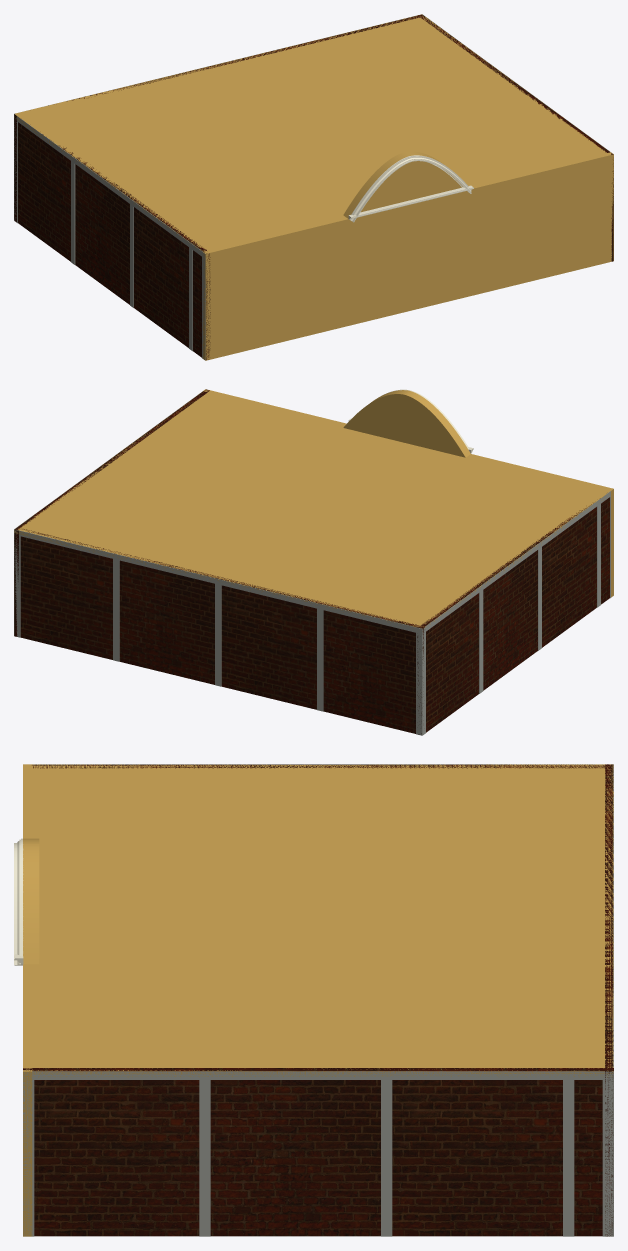
File: building.glb
3 views of the same model, one above another, from view 1: azimuth 30°, elevation 25°; view 2: azimuth 150°, elevation 25°; view 3: azimuth 270°, elevation 25° (orthographic). The views are drawn at different scales.
Visible parts, largest first — view 1: roof/house:0/roof_slab#0001, house:0/edge0/z0/house:0/edge0/z0/wall_0_0, house:0/edge3/z0/house:0/edge3/z0/wall_0_0, crown/coronamiento/crown_body#0001, house:0/edge2/z0/house:0/edge2/z0/wall_0_0, house:0/edge3/z0/house:0/edge3/z0/beam_0_0, house:0/edge1/z0/house:0/edge1/z0/wall_0_0, crown/coronamiento/crown_moulding#0001, crown/coronamiento/crown_base_cornice#0001, house:0/edge3/z0/house:0/edge3/z0/column_2_0; view 2: roof/house:0/roof_slab#0001, house:0/edge2/z0/house:0/edge2/z0/wall_0_0, house:0/edge3/z0/house:0/edge3/z0/wall_0_0, crown/coronamiento/crown_body#0001, house:0/edge2/z0/house:0/edge2/z0/beam_0_0, house:0/edge1/z0/house:0/edge1/z0/wall_0_0, house:0/edge0/z0/house:0/edge0/z0/wall_0_0, house:0/edge3/z0/house:0/edge3/z0/beam_0_0, house:0/edge2/z0/house:0/edge2/z0/column_4_0, house:0/edge2/z0/house:0/edge2/z0/column_2_0, house:0/edge2/z0/house:0/edge2/z0/column_1_0, house:0/edge2/z0/house:0/edge2/z0/column_3_0 (+2 smaller); view 3: roof/house:0/roof_slab#0001, house:0/edge1/z0/house:0/edge1/z0/wall_0_0, house:0/edge1/z0/house:0/edge1/z0/beam_0_0, house:0/edge0/z0/house:0/edge0/z0/wall_0_0, house:0/edge2/z0/house:0/edge2/z0/wall_0_0, house:0/edge3/z0/house:0/edge3/z0/wall_0_0, crown/coronamiento/crown_body#0001, house:0/edge1/z0/house:0/edge1/z0/column_1_0, house:0/edge1/z0/house:0/edge1/z0/column_2_0, house:0/edge1/z0/house:0/edge1/z0/column_3_0, house:0/edge1/z0/house:0/edge1/z0/column_4_0, house:0/edge1/z0/house:0/edge1/z0/column_0_0 (+1 smaller).
Boxes of the visible parts, x1,y1,x2,y2 form: roof/house:0/roof_slab#0001: (14, 14, 613, 255); house:0/edge0/z0/house:0/edge0/z0/wall_0_0: (202, 152, 613, 360); house:0/edge3/z0/house:0/edge3/z0/wall_0_0: (18, 122, 210, 359); crown/coronamiento/crown_body#0001: (343, 151, 463, 218); house:0/edge2/z0/house:0/edge2/z0/wall_0_0: (14, 14, 423, 222); house:0/edge3/z0/house:0/edge3/z0/beam_0_0: (14, 113, 205, 258); house:0/edge1/z0/house:0/edge1/z0/wall_0_0: (418, 14, 613, 261); crown/coronamiento/crown_moulding#0001: (349, 155, 471, 222); crown/coronamiento/crown_base_cornice#0001: (348, 185, 473, 219); house:0/edge3/z0/house:0/edge3/z0/column_2_0: (71, 161, 75, 264); roof/house:0/roof_slab#0001: (14, 391, 612, 627); house:0/edge2/z0/house:0/edge2/z0/wall_0_0: (20, 529, 424, 733); house:0/edge3/z0/house:0/edge3/z0/wall_0_0: (417, 497, 609, 734); crown/coronamiento/crown_body#0001: (343, 390, 469, 457); house:0/edge2/z0/house:0/edge2/z0/beam_0_0: (14, 529, 422, 633); house:0/edge1/z0/house:0/edge1/z0/wall_0_0: (14, 389, 209, 636); house:0/edge0/z0/house:0/edge0/z0/wall_0_0: (203, 389, 613, 597); house:0/edge3/z0/house:0/edge3/z0/beam_0_0: (422, 491, 610, 633); house:0/edge2/z0/house:0/edge2/z0/column_4_0: (317, 608, 323, 711); house:0/edge2/z0/house:0/edge2/z0/column_2_0: (113, 559, 119, 661); house:0/edge2/z0/house:0/edge2/z0/column_1_0: (416, 633, 422, 735); house:0/edge2/z0/house:0/edge2/z0/column_3_0: (215, 584, 221, 686); roof/house:0/roof_slab#0001: (23, 764, 613, 1077); house:0/edge1/z0/house:0/edge1/z0/wall_0_0: (23, 1068, 613, 1236); house:0/edge1/z0/house:0/edge1/z0/beam_0_0: (23, 1071, 613, 1079); house:0/edge0/z0/house:0/edge0/z0/wall_0_0: (23, 764, 32, 1236); house:0/edge2/z0/house:0/edge2/z0/wall_0_0: (605, 764, 613, 1236); house:0/edge3/z0/house:0/edge3/z0/wall_0_0: (32, 764, 604, 768); crown/coronamiento/crown_body#0001: (25, 838, 39, 964); house:0/edge1/z0/house:0/edge1/z0/column_1_0: (602, 1080, 613, 1236); house:0/edge1/z0/house:0/edge1/z0/column_2_0: (199, 1080, 210, 1236); house:0/edge1/z0/house:0/edge1/z0/column_3_0: (381, 1080, 392, 1236); house:0/edge1/z0/house:0/edge1/z0/column_4_0: (563, 1080, 574, 1236); house:0/edge1/z0/house:0/edge1/z0/column_0_0: (23, 1080, 34, 1236).
Bounding box in the file's own units: 16 × 5.8 × 13.2.
4 materials, 1 textured.
